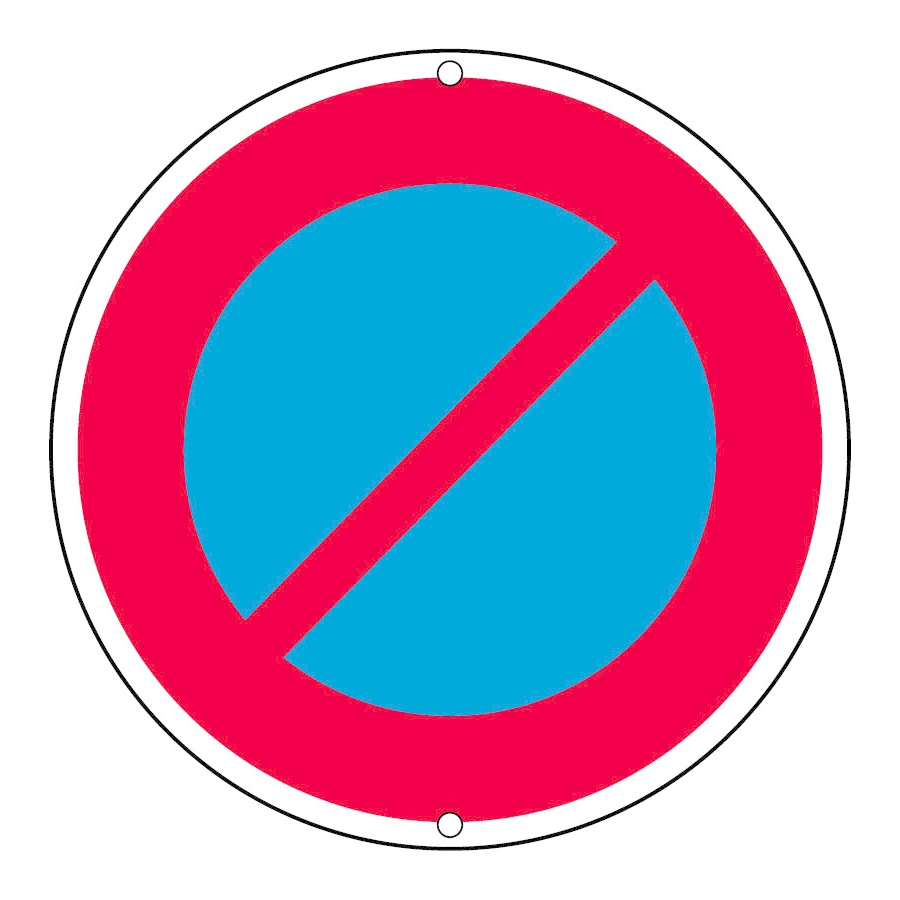Prohibition_sign: (32, 29, 891, 867)
